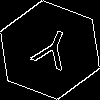Y: (25, 25, 77, 80)
